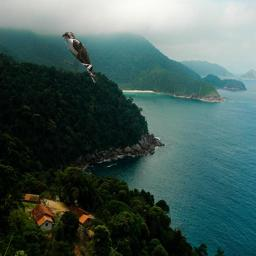Cuckoo: (61, 32, 99, 83)
